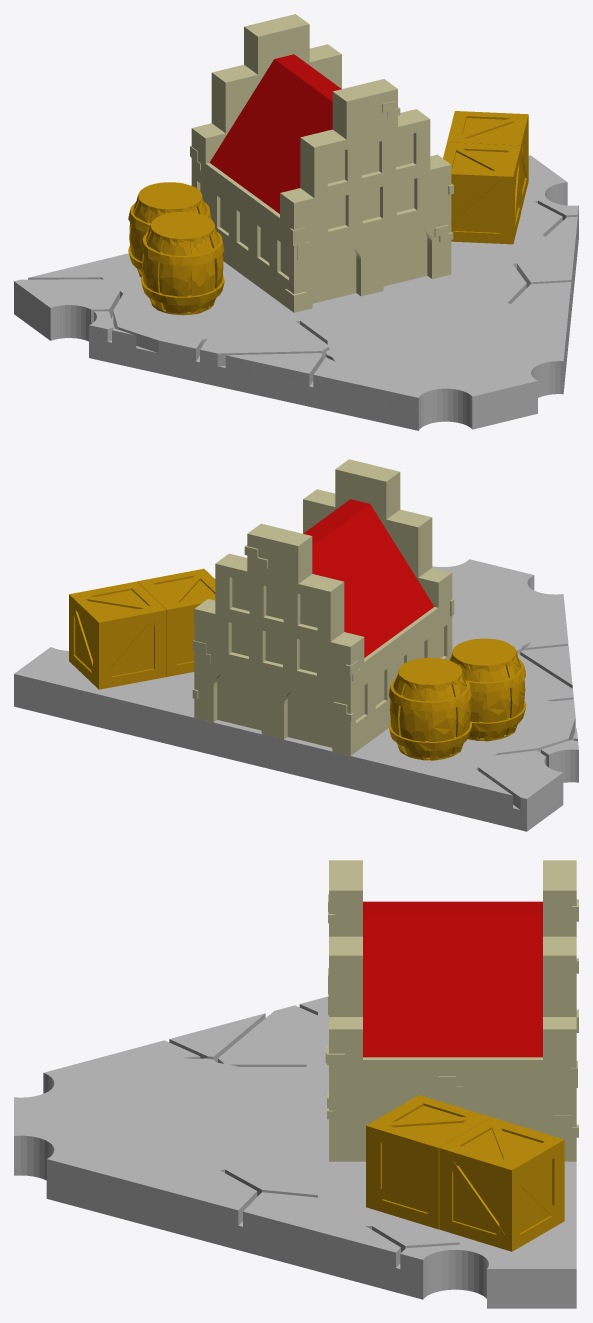
The model's file is harbor_top.glb.
3 renders of one model, top to bottom at view 1: azimuth 30°, elevation 25°; view 2: azimuth 150°, elevation 25°; view 3: azimuth 270°, elevation 25°, orthographic. The views are drawn at different scales.
Visible parts, largest first — view 1: harbor_top; view 2: harbor_top; view 3: harbor_top.
Boxes of the visible parts, box(x1,y1,x2,y2) form: harbor_top: box(14, 14, 578, 430); harbor_top: box(14, 459, 578, 831); harbor_top: box(14, 860, 578, 1308).
Bounding box in the file's own units: 32 × 13.7 × 25.1.
